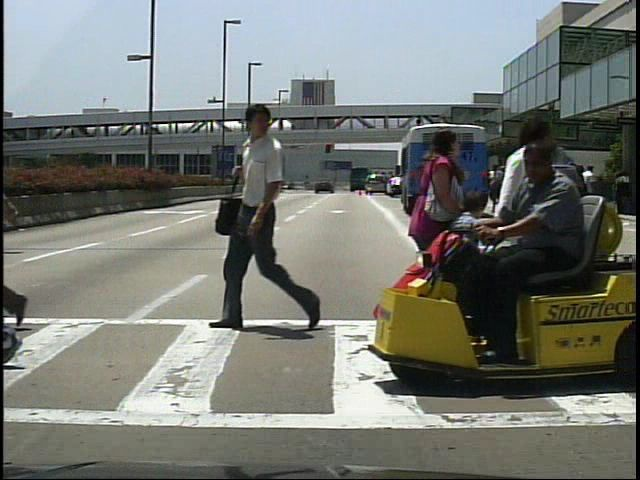person: (472, 143, 606, 376), (212, 101, 320, 346), (463, 109, 559, 363), (404, 124, 468, 355), (0, 133, 75, 327), (446, 189, 487, 320), (582, 163, 602, 218), (492, 163, 511, 213), (500, 166, 517, 219)
